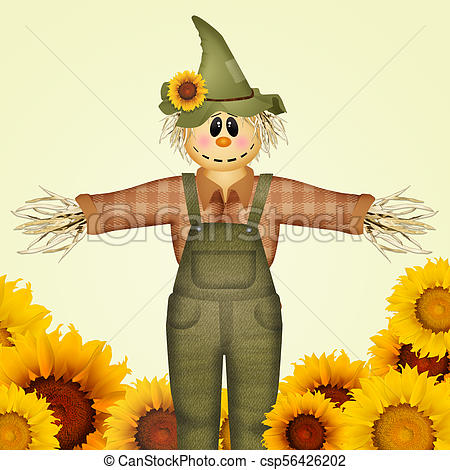person-like: (8, 8, 437, 452)
